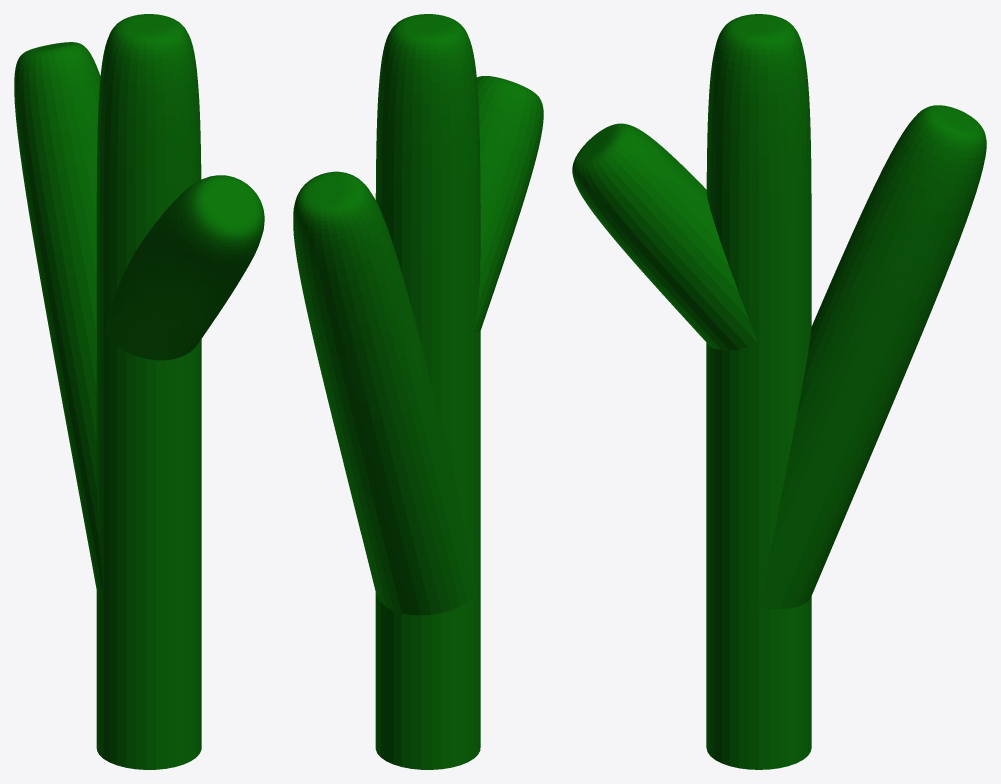
File: Cactus 3.fbx
3 views of the same model, side by side, from view 1: azimuth 30°, elevation 25°; view 2: azimuth 150°, elevation 25°; view 3: azimuth 270°, elevation 25° (orthographic).
Visible parts, largest first — view 1: Cactus 3; view 2: Cactus 3; view 3: Cactus 3.
Part boxes in pixels (x1=…): Cactus 3: x1=14, y1=14, x2=264, y2=769; Cactus 3: x1=293, y1=14, x2=543, y2=769; Cactus 3: x1=572, y1=14, x2=986, y2=769.
Size of the model in its own units: 80.39 by 610 by 317.
